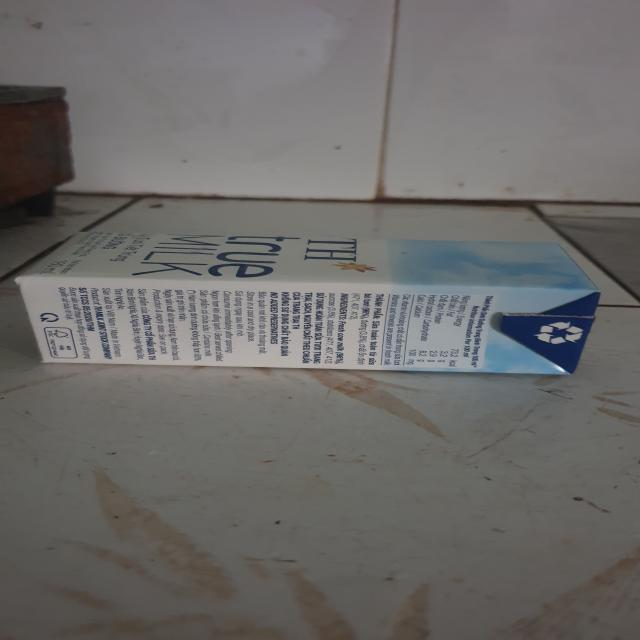TH: (15, 227, 608, 380)
